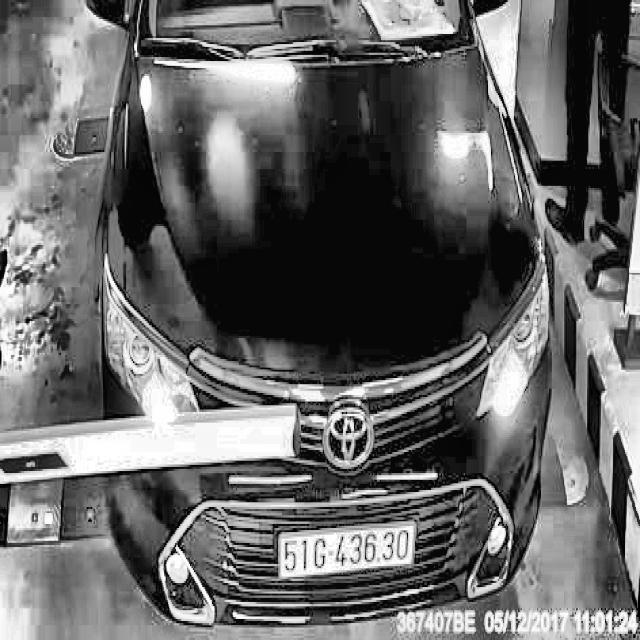plate: (274, 516, 420, 582)
